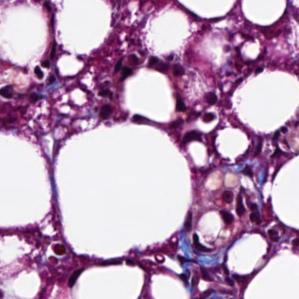inflammation: (175, 87, 223, 128), (230, 189, 266, 224), (26, 61, 50, 83)
